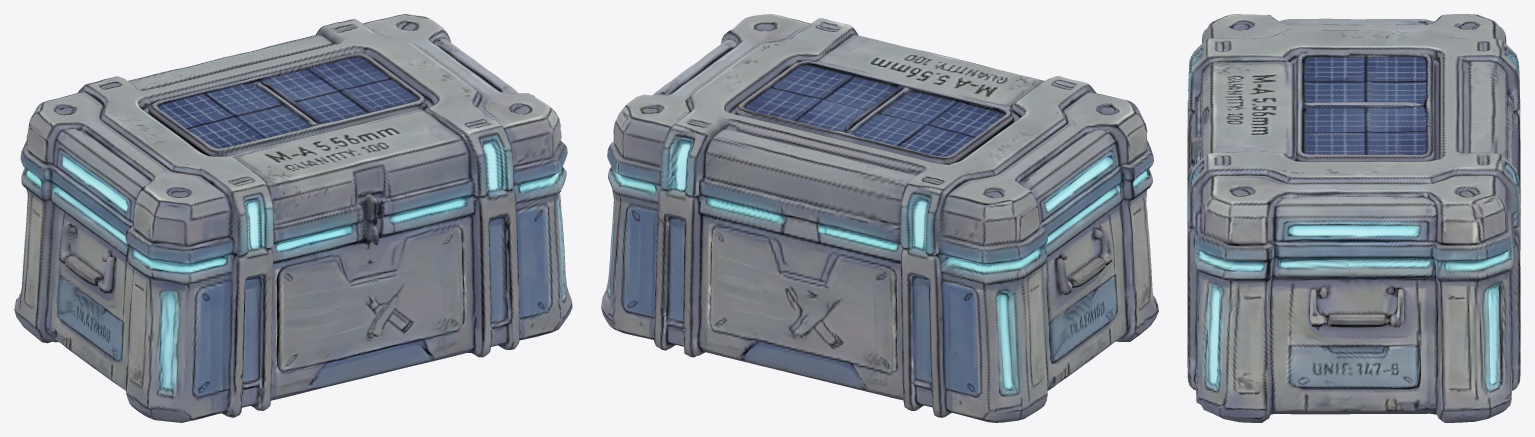
Rendered from ammo_box_1.fbx.
The picture shows the model from 3 angles, left to right: view 1: azimuth 30°, elevation 25°; view 2: azimuth 150°, elevation 25°; view 3: azimuth 270°, elevation 25°; orthographic projection.
Visible parts, largest first — view 1: model_LOD0; view 2: model_LOD0; view 3: model_LOD0.
Boxes of the visible parts, left/top/right/bottom form: model_LOD0: left=14, top=14, right=572, bottom=422; model_LOD0: left=601, top=14, right=1158, bottom=422; model_LOD0: left=1187, top=14, right=1520, bottom=422.
Size of what is drawn, in the model's own units: 190 by 94.4 by 128.
